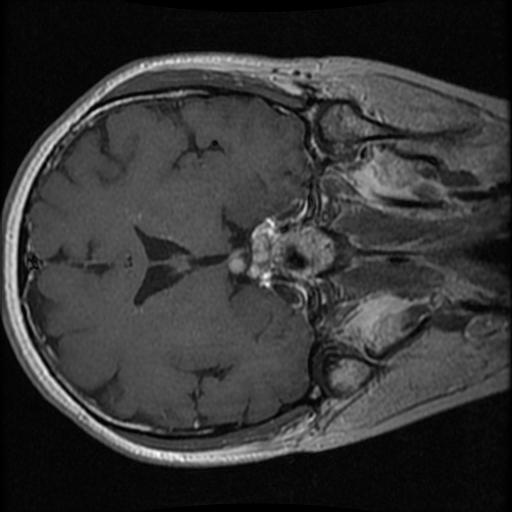pituitary tumour: (227, 233, 267, 278)
